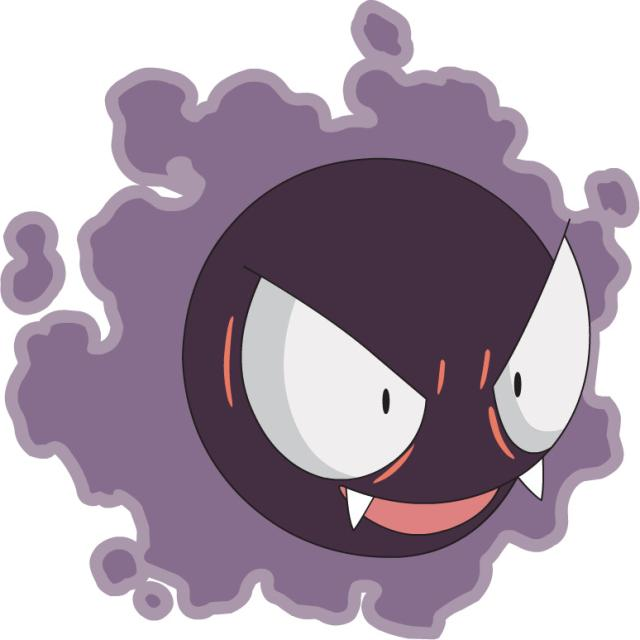Gastly: (95, 125, 594, 580)
